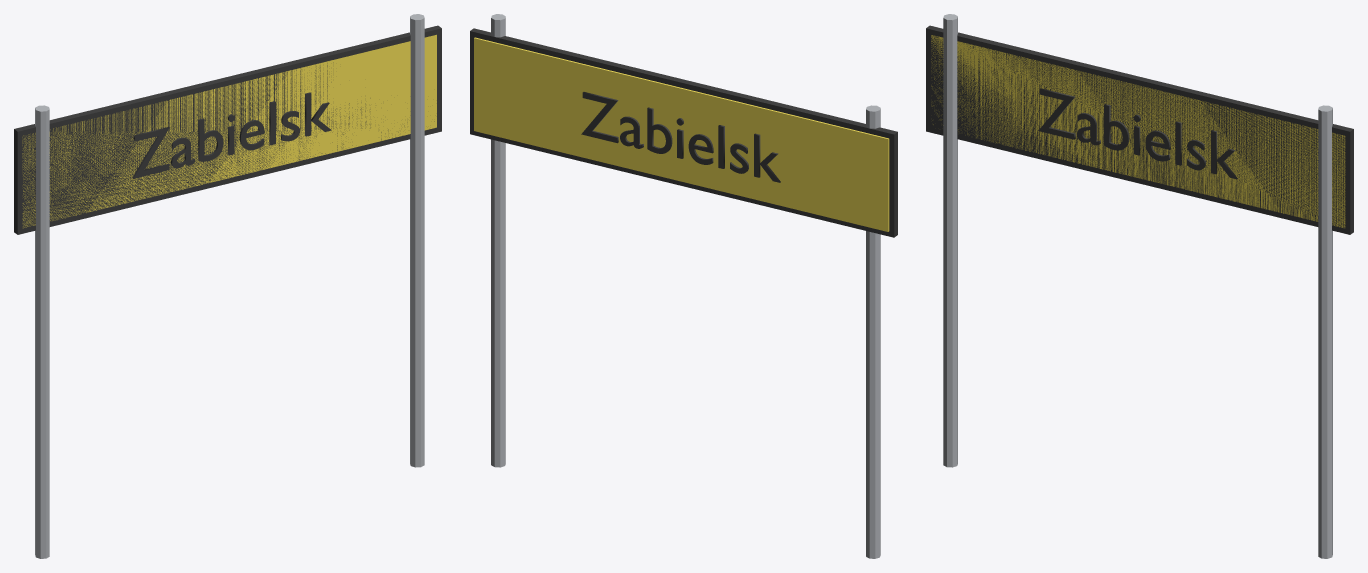
Rendered from Tablica_Zabielsk.fbx.
3 renders of one model, left to right at view 1: azimuth 30°, elevation 25°; view 2: azimuth 150°, elevation 25°; view 3: azimuth 330°, elevation 25°, orthographic.
Visible parts, largest first — view 1: Tablica_Zabielsk; view 2: Tablica_Zabielsk; view 3: Tablica_Zabielsk.
Part boxes in pixels (<box>): Tablica_Zabielsk: <box>14,14,441,558</box>; Tablica_Zabielsk: <box>470,14,897,558</box>; Tablica_Zabielsk: <box>926,14,1353,558</box>.
Size of the model in its own units: 2.58 by 2.6 by 0.108.
